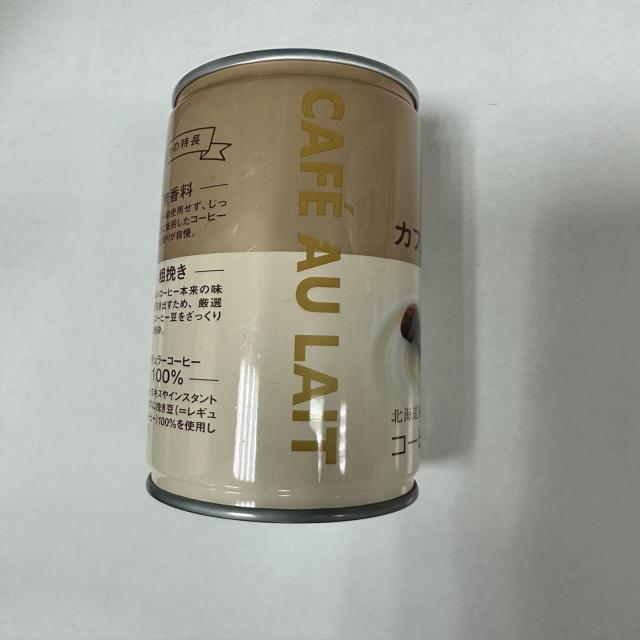Can: (158, 46, 418, 521)
